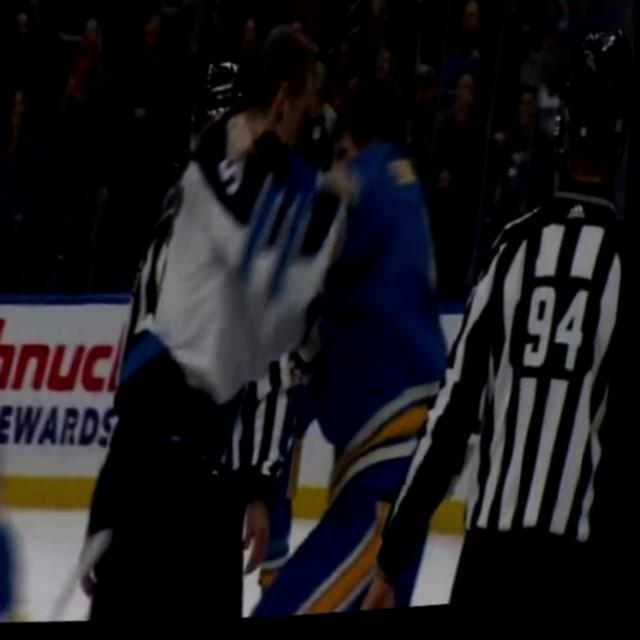fight: (122, 13, 487, 632)
